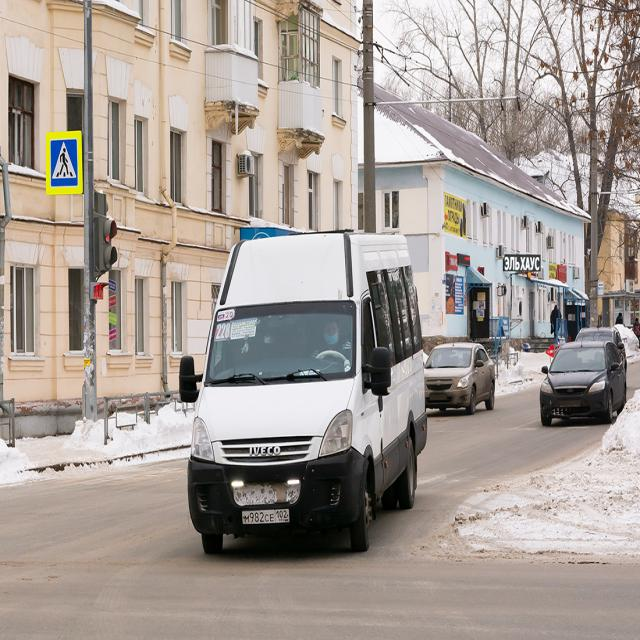number-of-bus: (216, 323, 232, 341)
